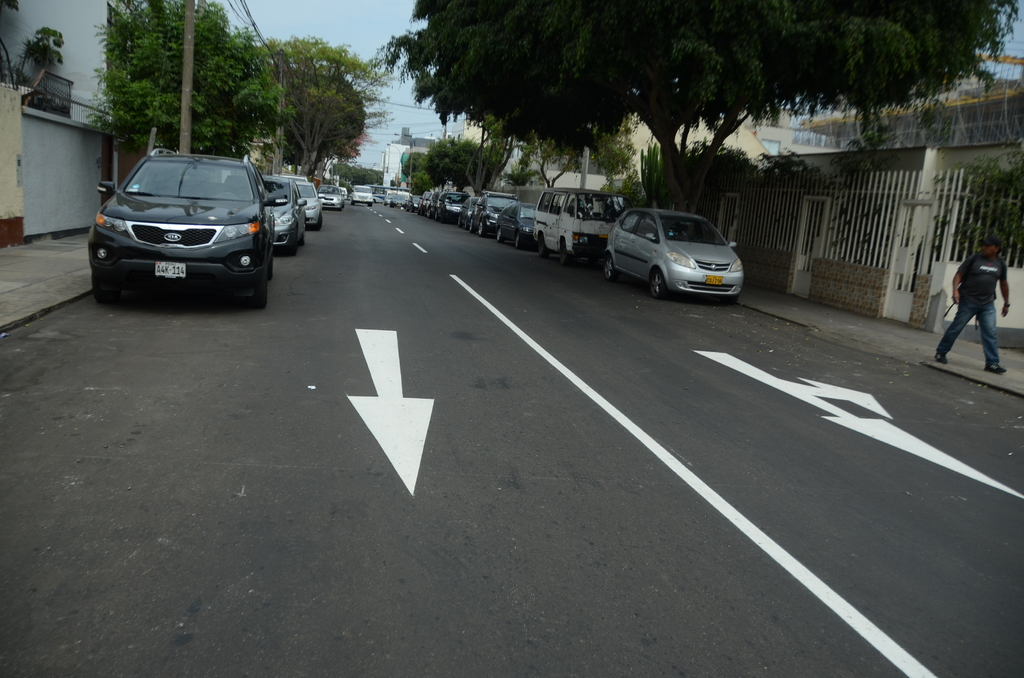Tree: (320, 32, 940, 209), (81, 0, 293, 154), (251, 28, 389, 182), (401, 122, 529, 196), (511, 135, 576, 192), (590, 112, 634, 193), (330, 160, 382, 191)
